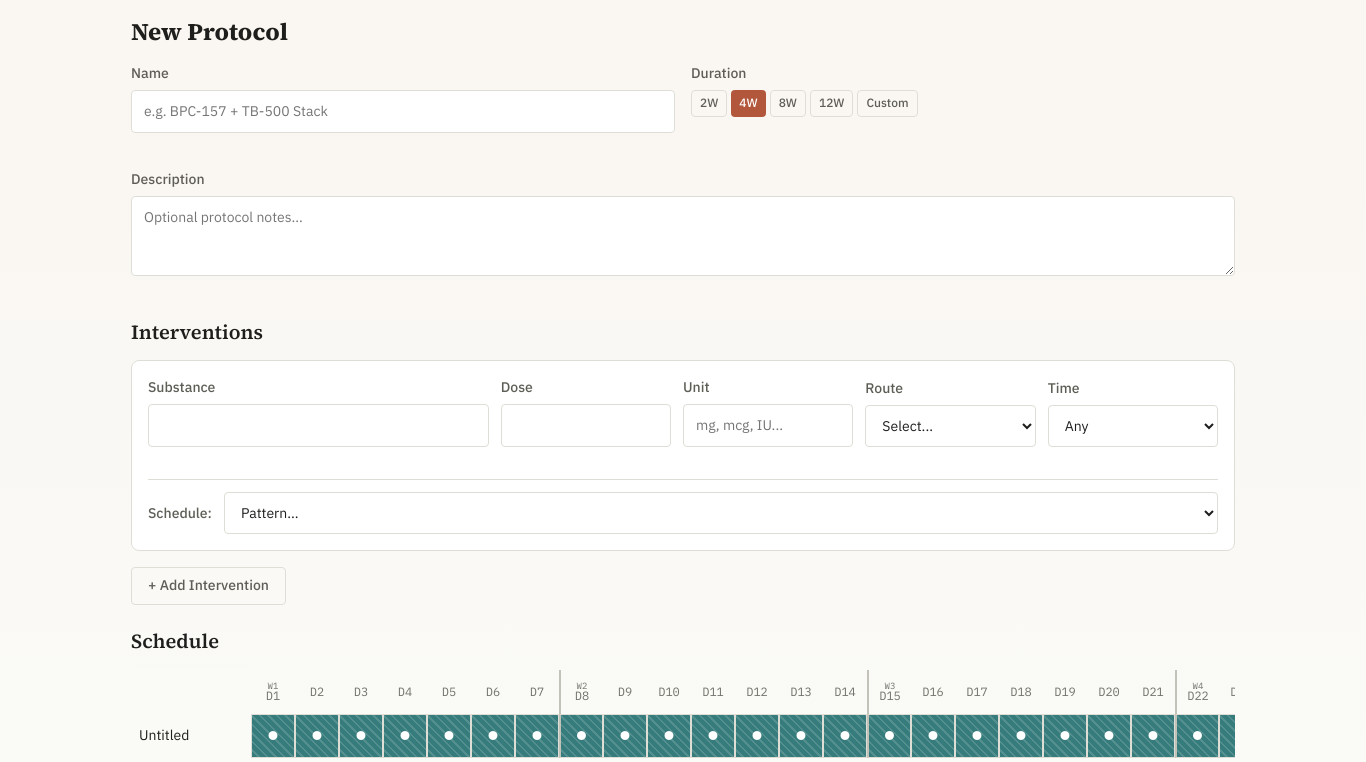
Test: ProtocolBuilder Start Now prompt › shows Start Now prompt after successful creation
The width and height of the screenshot is (1366, 762).
# Fill in name
In the field labelled "Name": (403, 111) [131,90,675,133], type "Test Protocol"
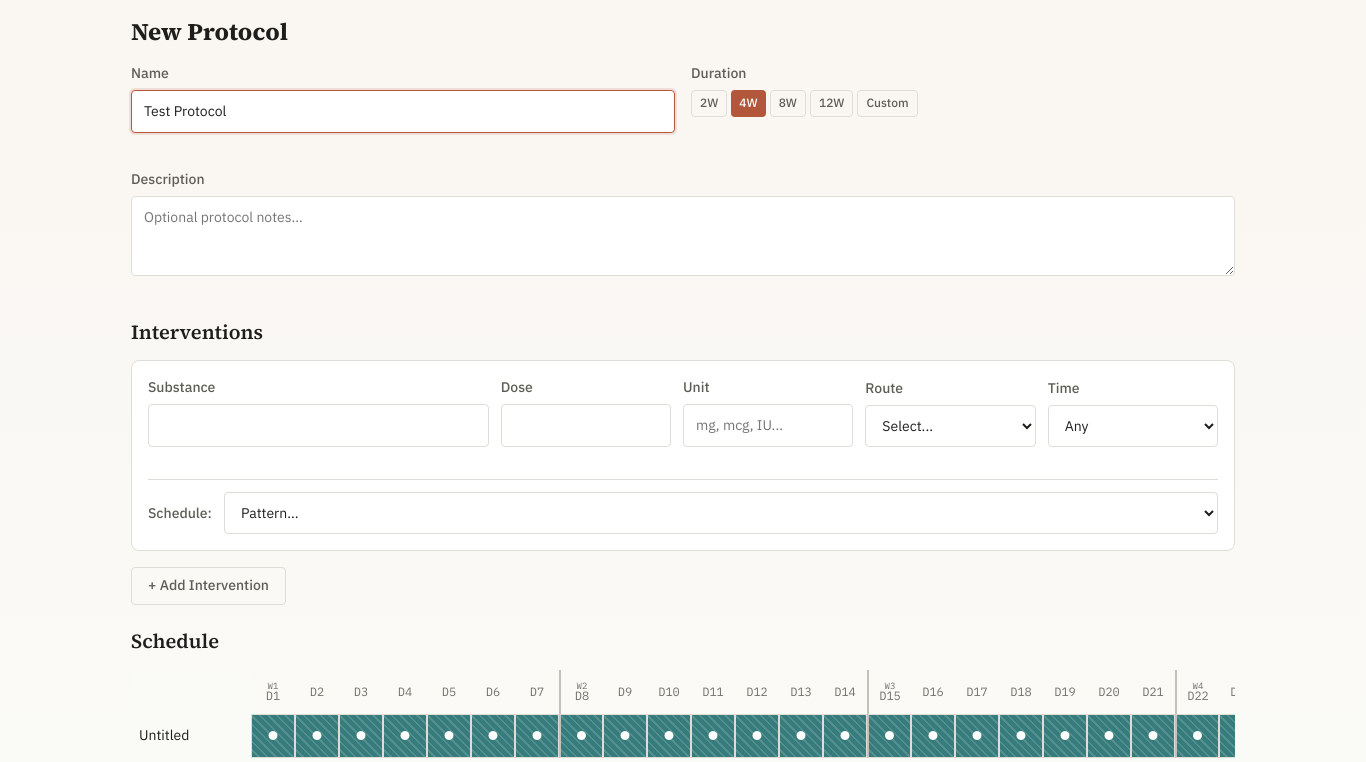
# Fill in substance (first line)
In the field labelled "Substance": (318, 426) [148,404,489,448], type "BPC-157"
(page scrolled)
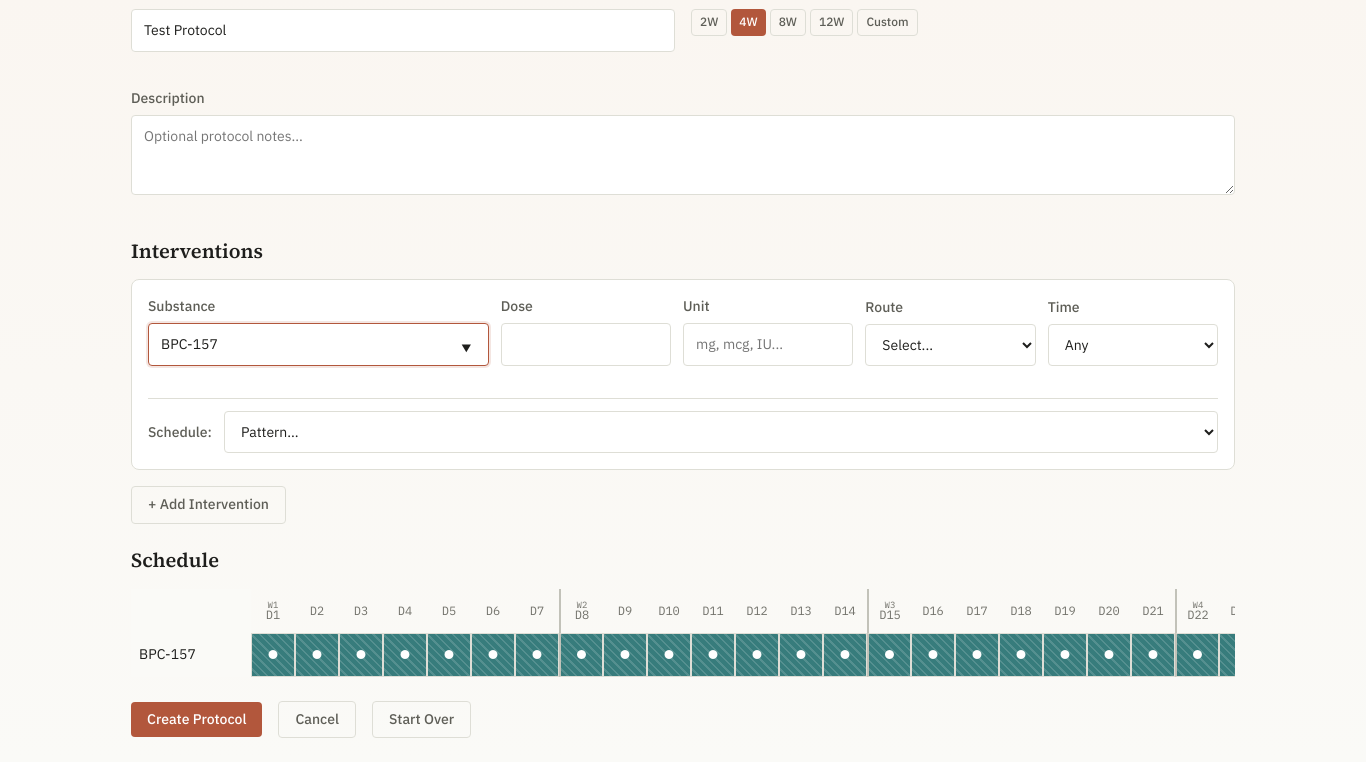
Click the button "Create Protocol": (197, 720) [131,702,262,737]
(page scrolled)
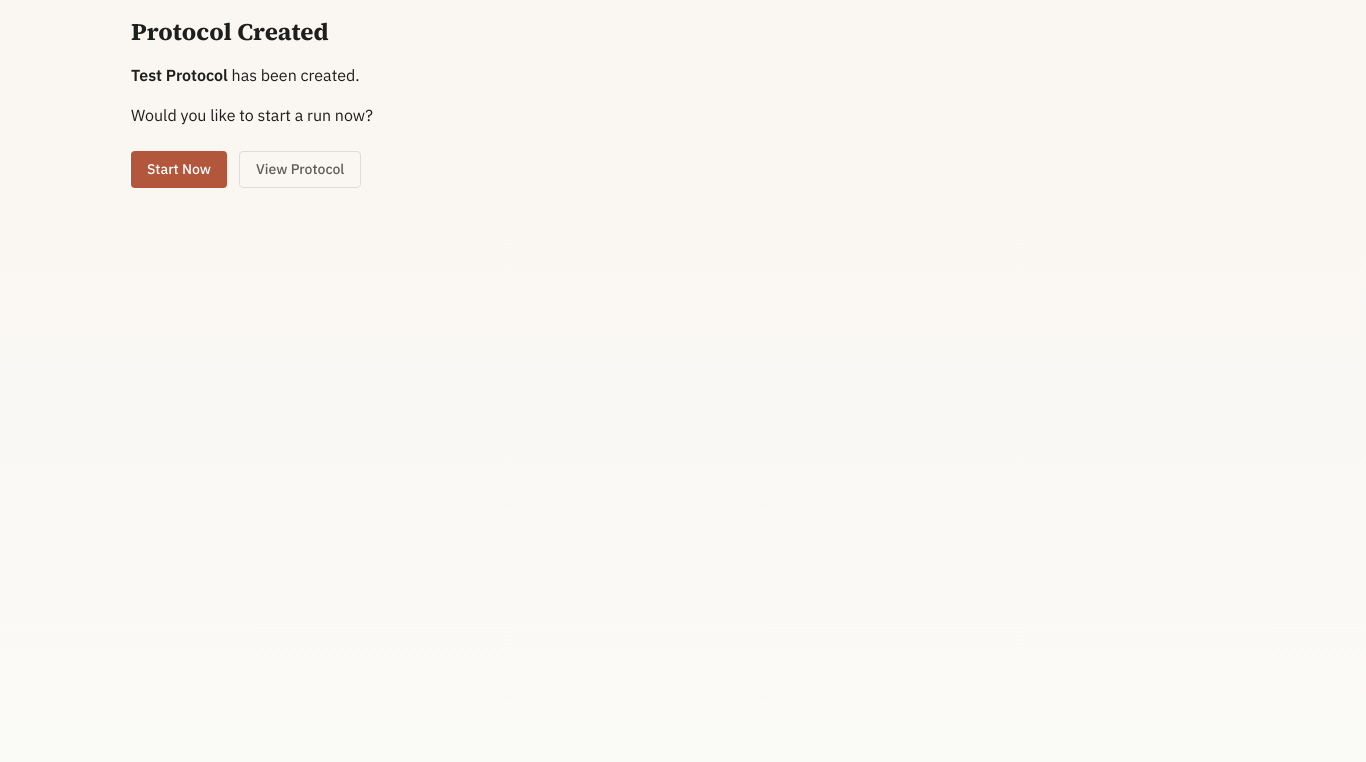
Check: the heading "Protocol Created" is shown, box [131,15,329,48]
Check: the text "Test Protocol" is shown, box [131,65,228,85]
Check: the button "Start Now" is shown, box [131,151,227,188]
